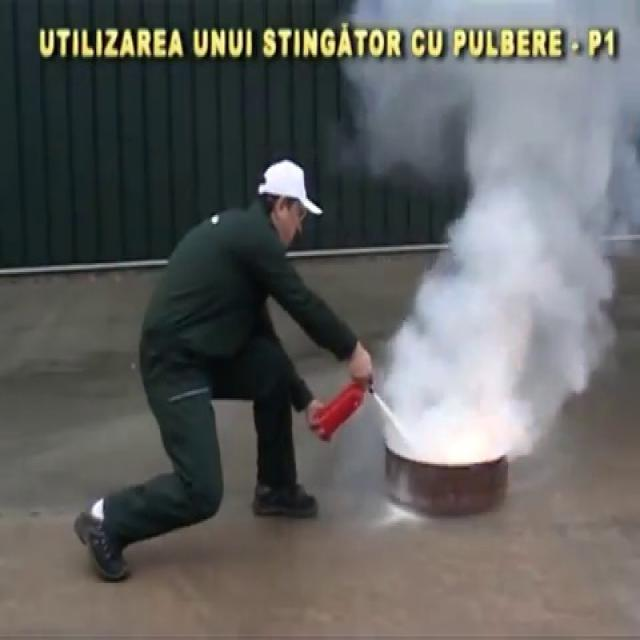Smoke: (382, 0, 640, 434)
